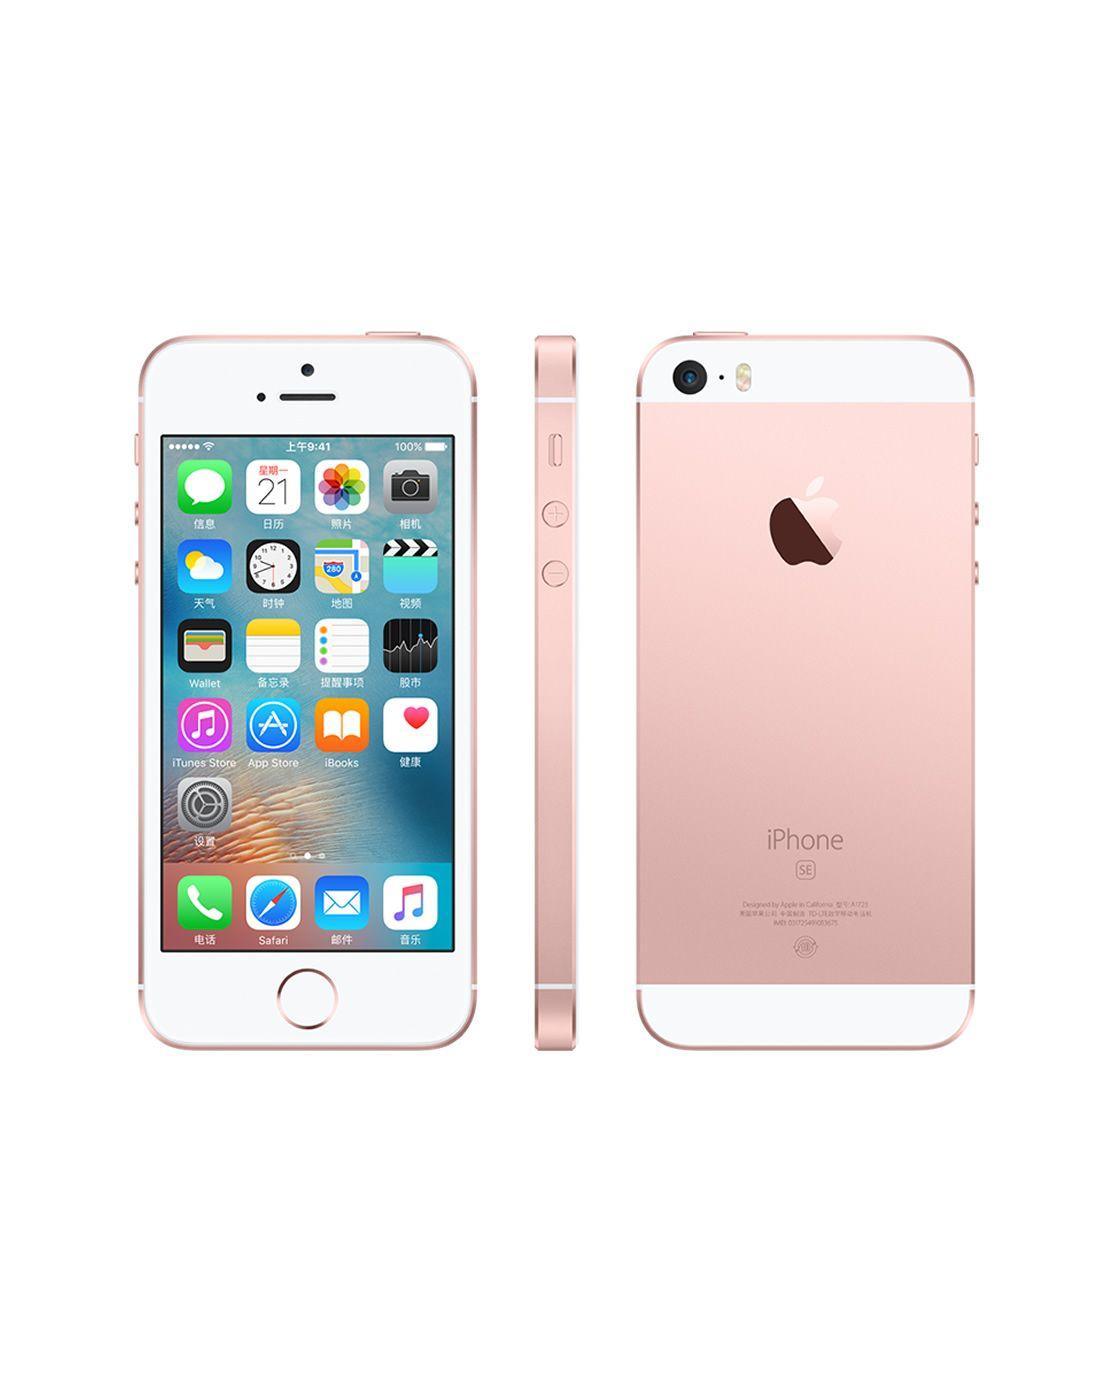phone: (131, 331, 483, 1052), (634, 331, 980, 1059), (528, 334, 586, 1052)
